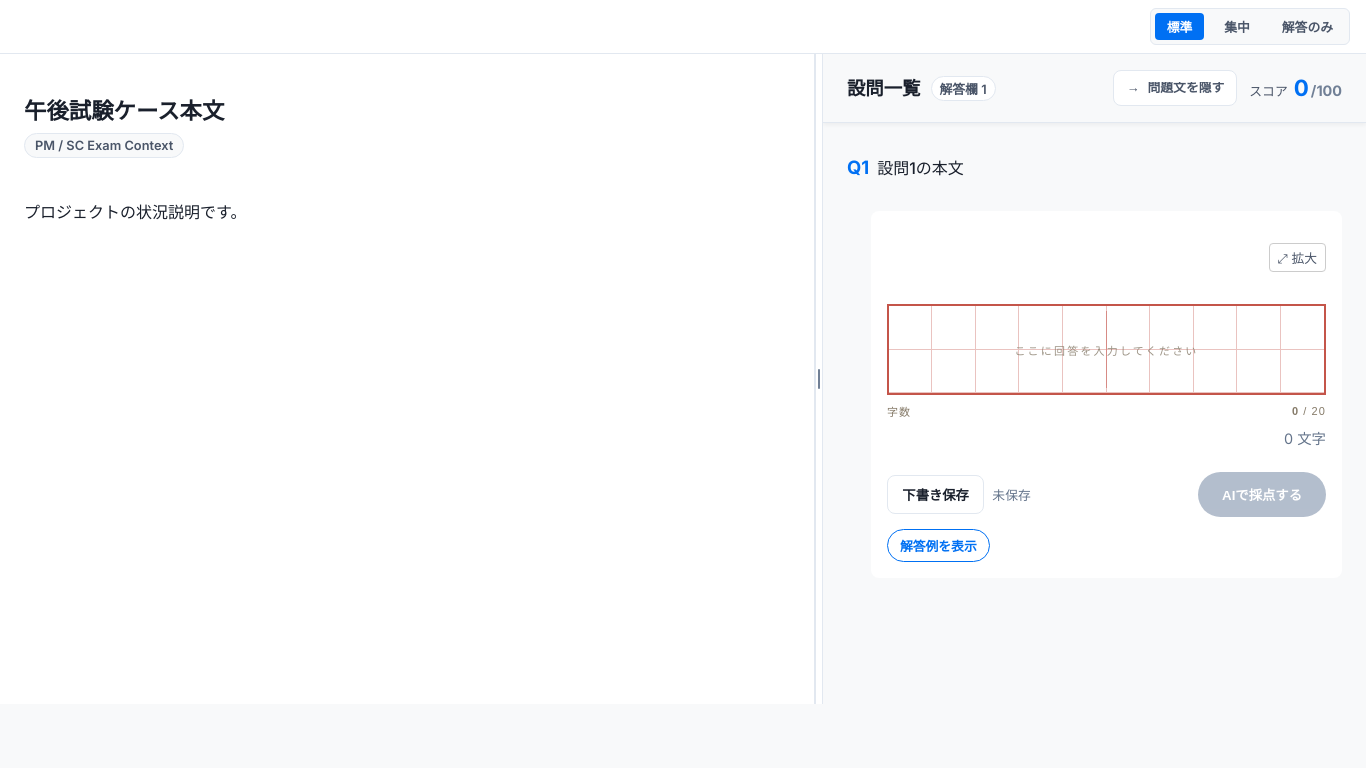
Test: SCPMExamView › 問題文左ペインを閉じて再表示できる
Expected: the heading "午後試験ケース本文" is shown, [24,97,224,124]
Click the button "→ 問題文を隠す": [1175, 88] box [1112,70,1237,106]
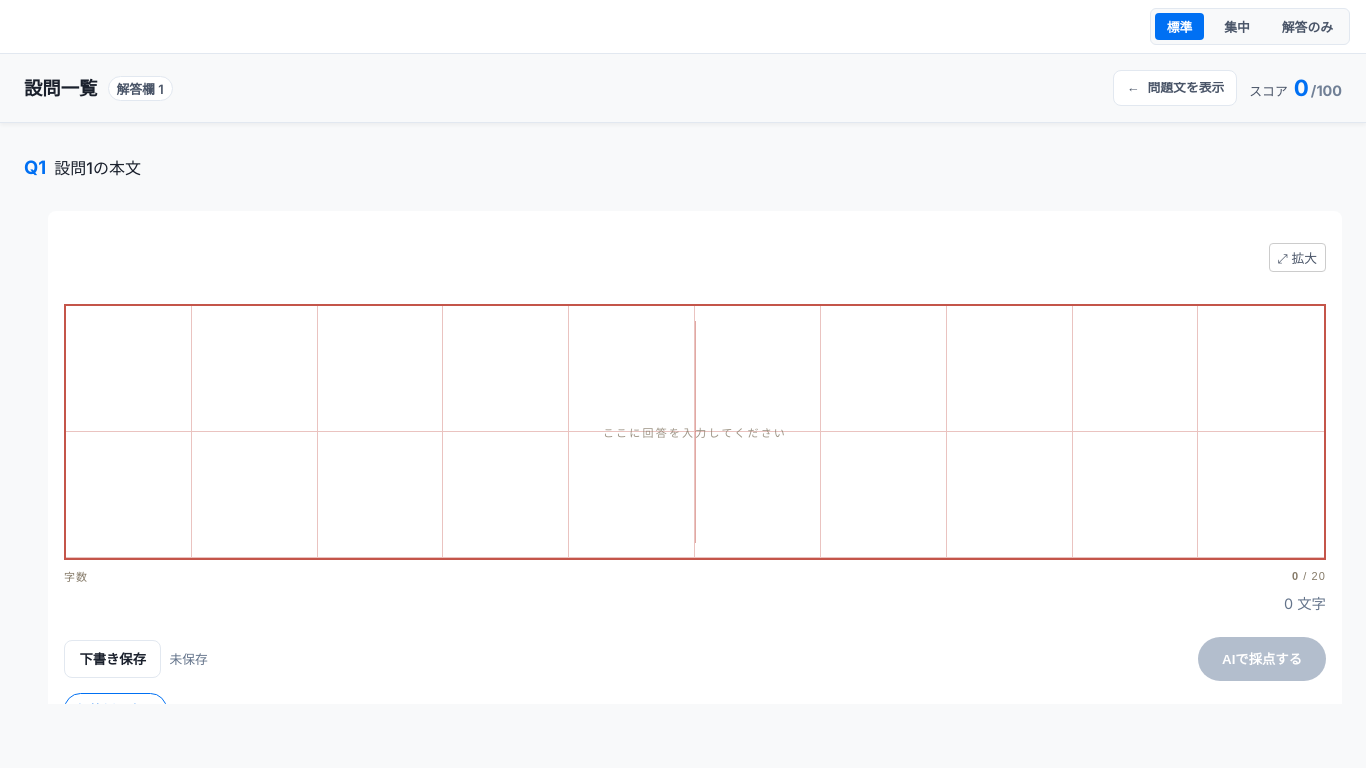
Expected: the heading "午後試験ケース本文" is gone
Expected: the button "← 問題文を表示" is collapsed
Click the button "← 問題文を表示": [1175, 88] box [1112,70,1237,106]
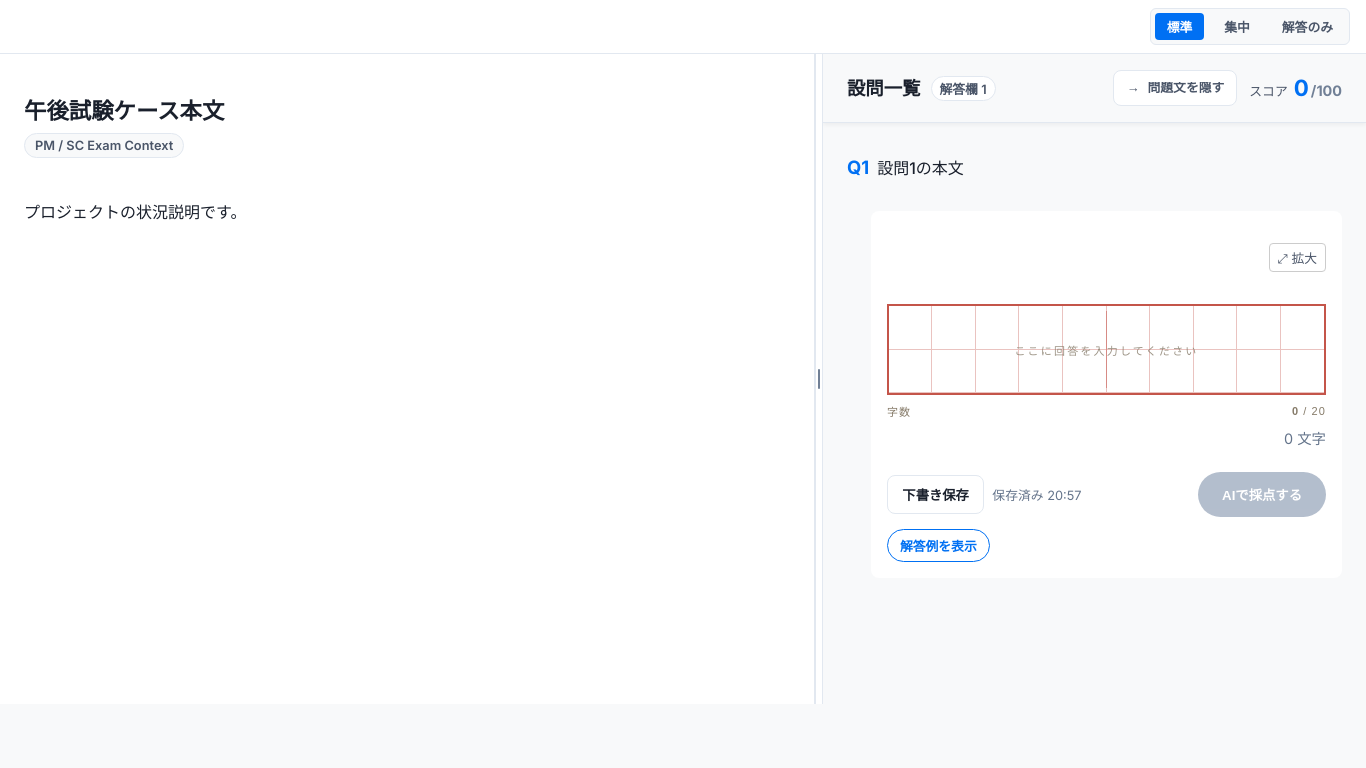
Expected: the heading "午後試験ケース本文" is shown, [24,97,224,124]
Expected: the button "→ 問題文を隠す" is expanded, [1112,70,1237,106]
